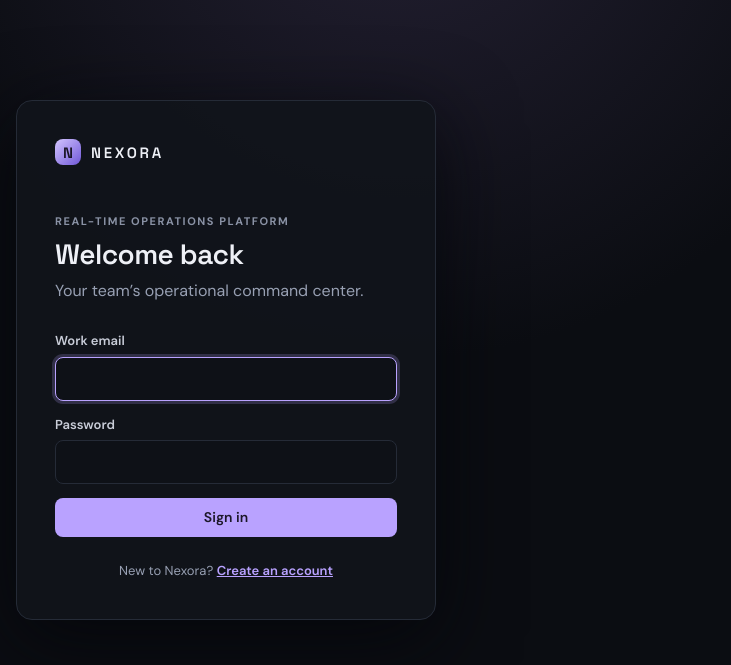
it: LoginPage › shows the API error for invalid credentials and stays signed out
In the field labelled "Work email": [226, 379] box x1=55 y1=357 x2=397 y2=401, type "alex@example.test"
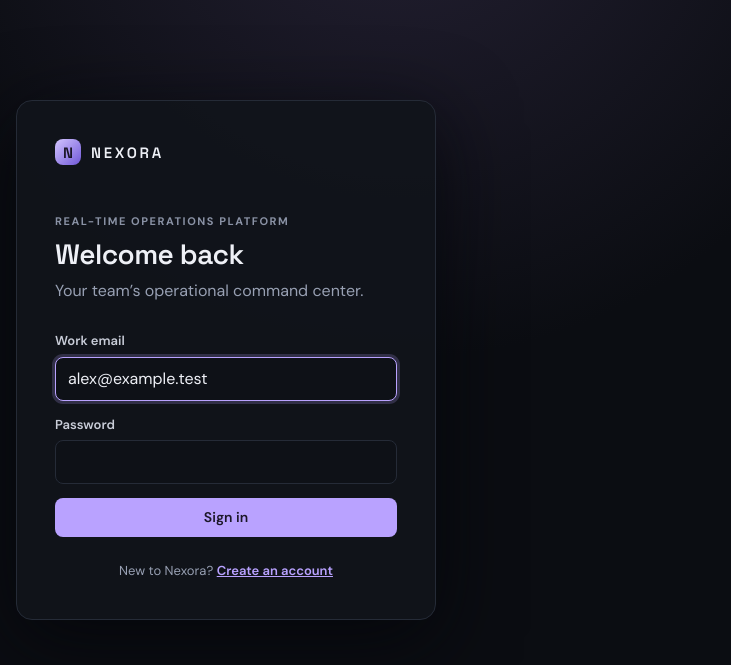
In the password field labelled "Password": [226, 462] box x1=55 y1=440 x2=397 y2=484, type "wrong-password"
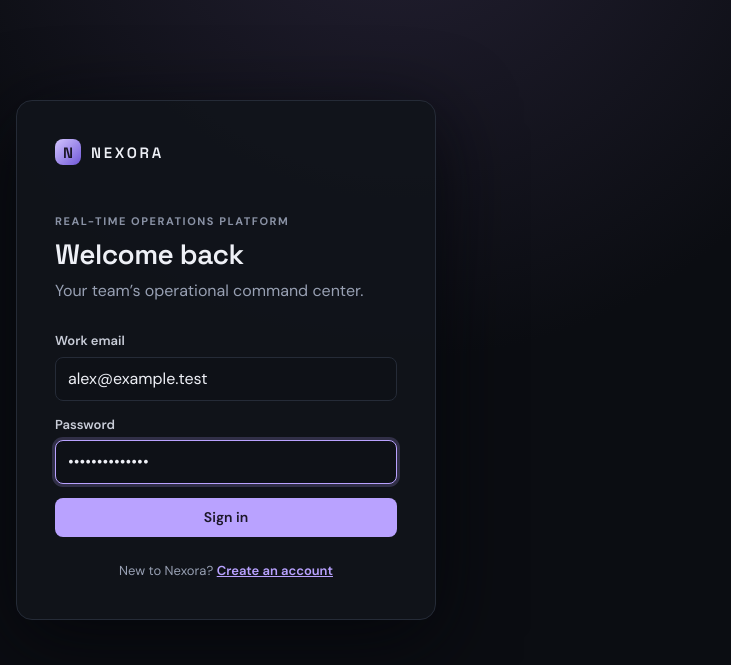
Click the button "Sign in": [226, 518] box x1=55 y1=498 x2=397 y2=537
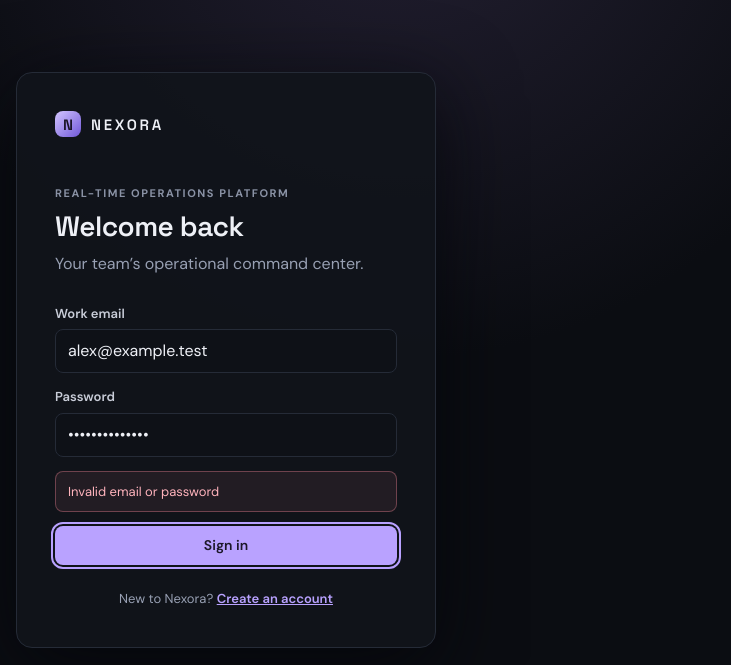
Expected: the message reads "Invalid email or password", x1=68 y1=482 x2=219 y2=500
